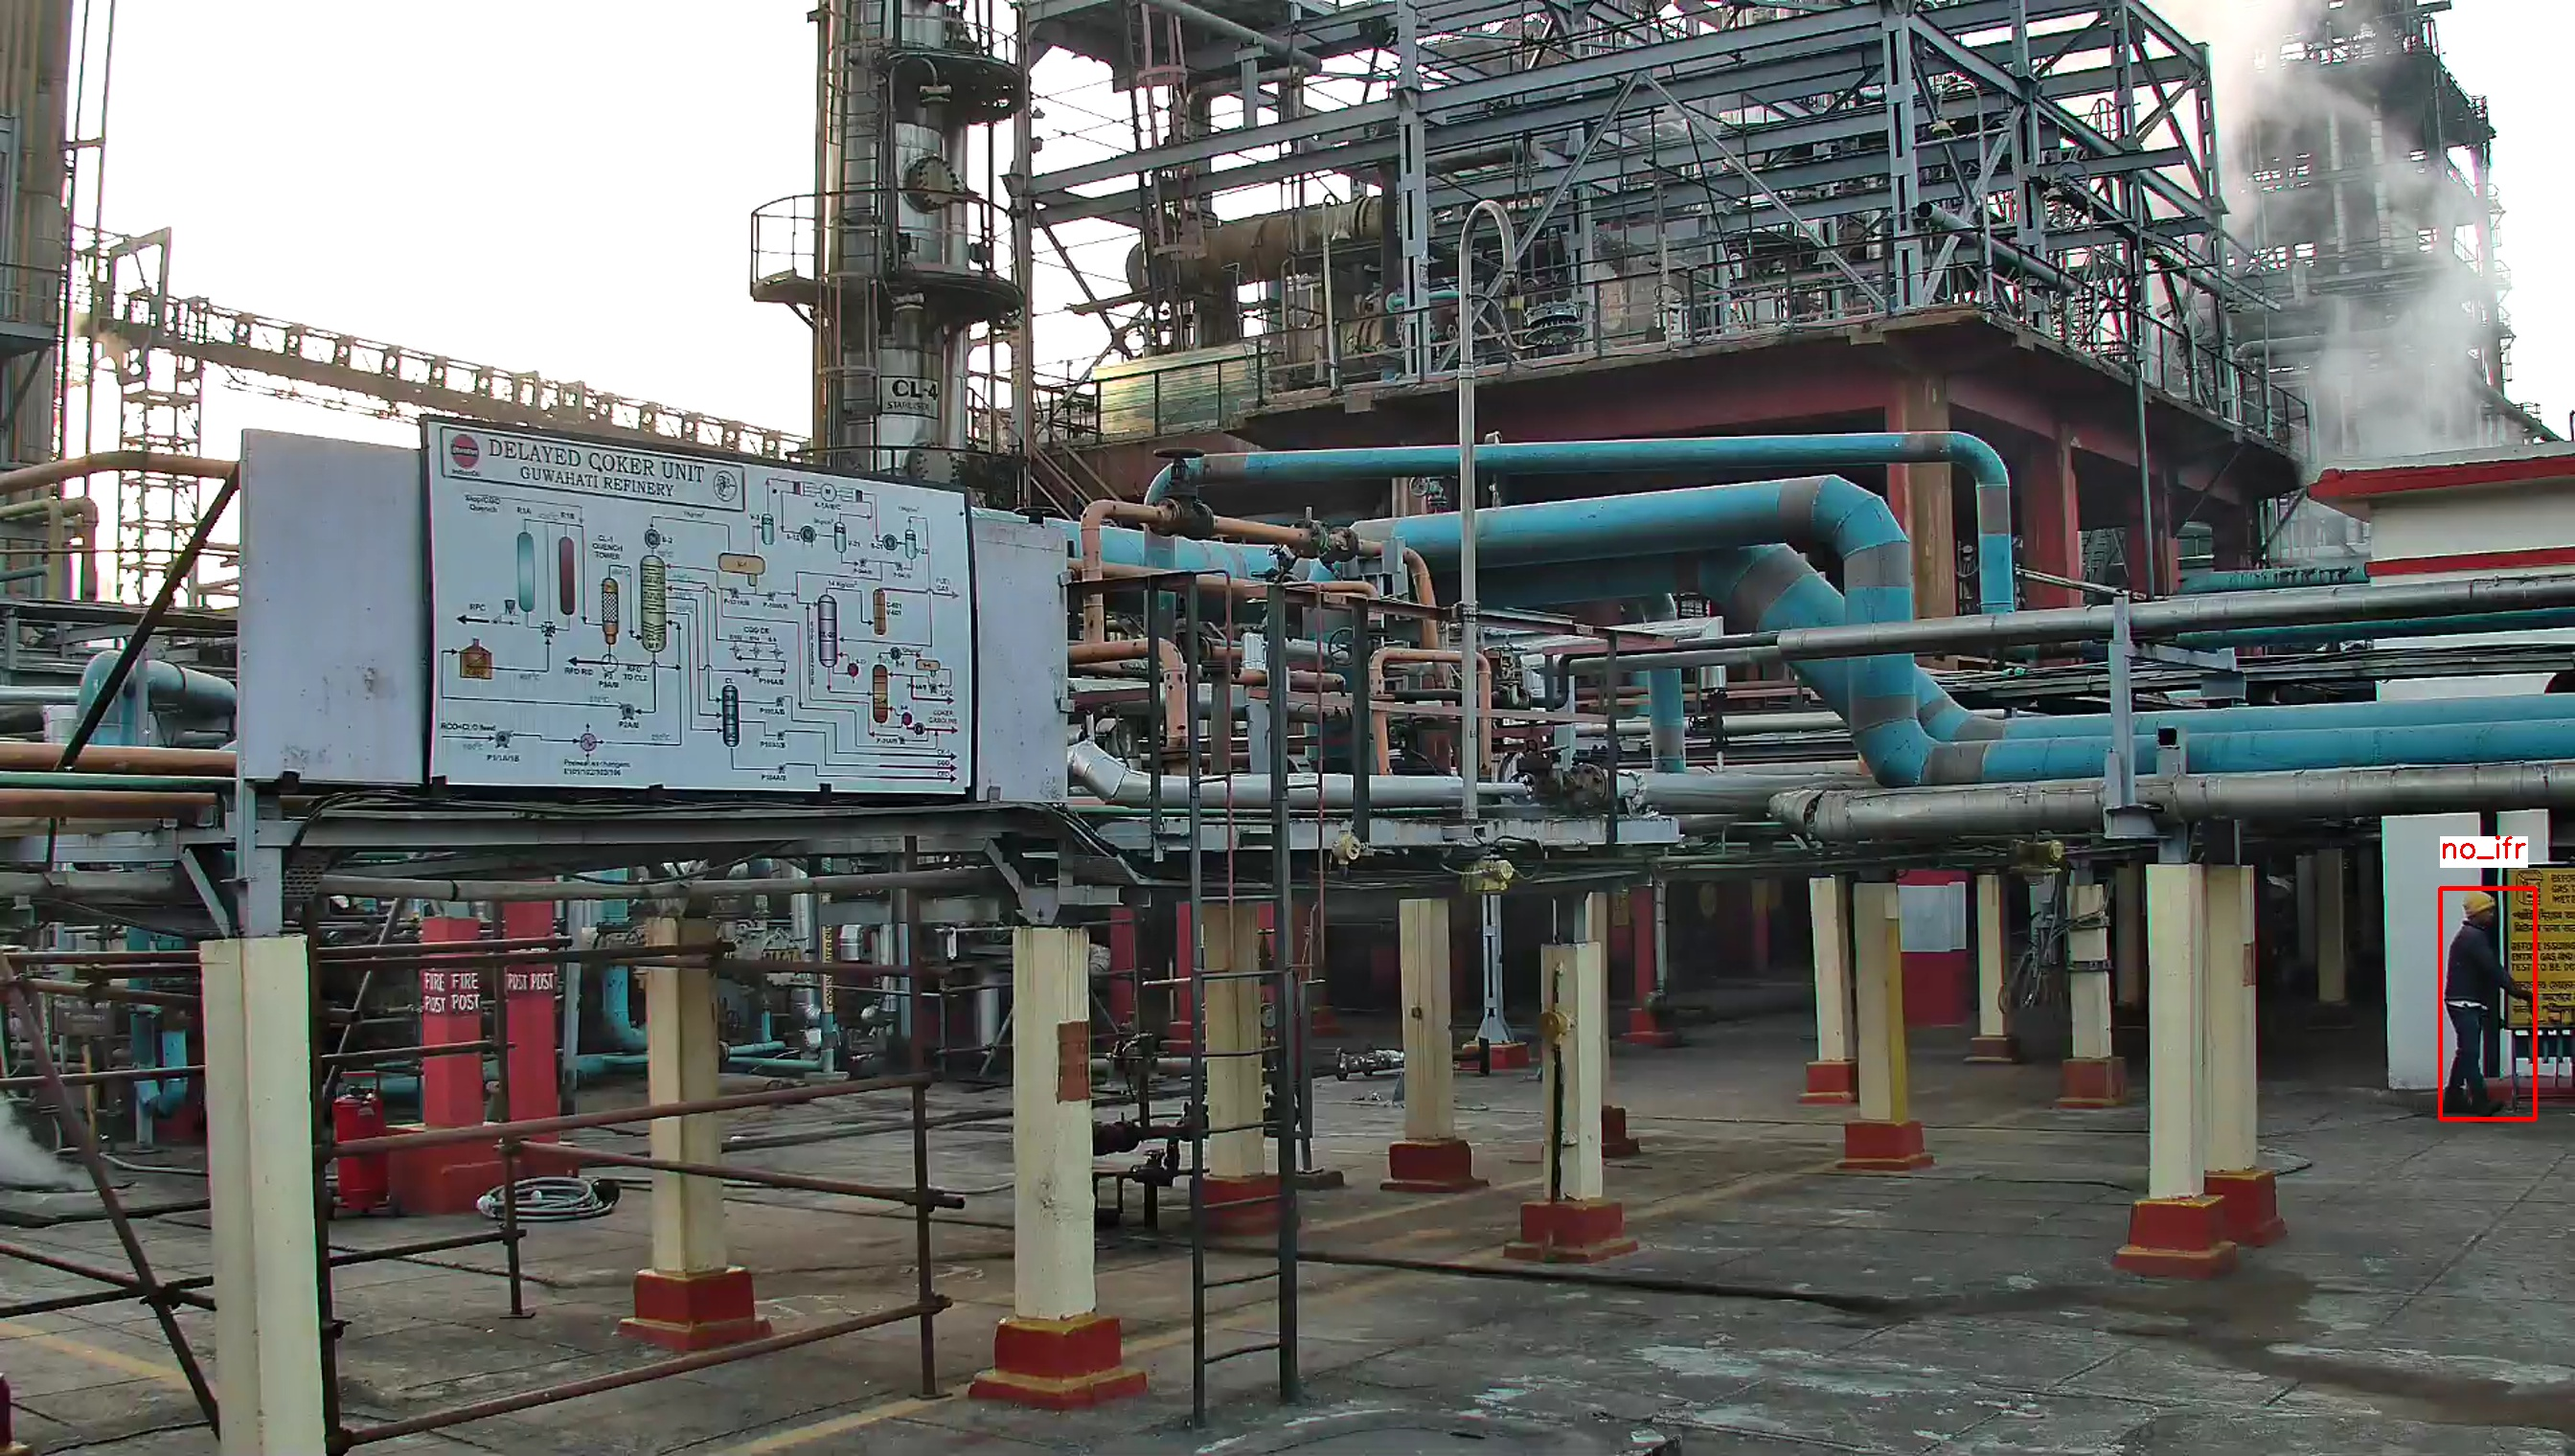Helmets: (2457, 892, 2501, 920)
